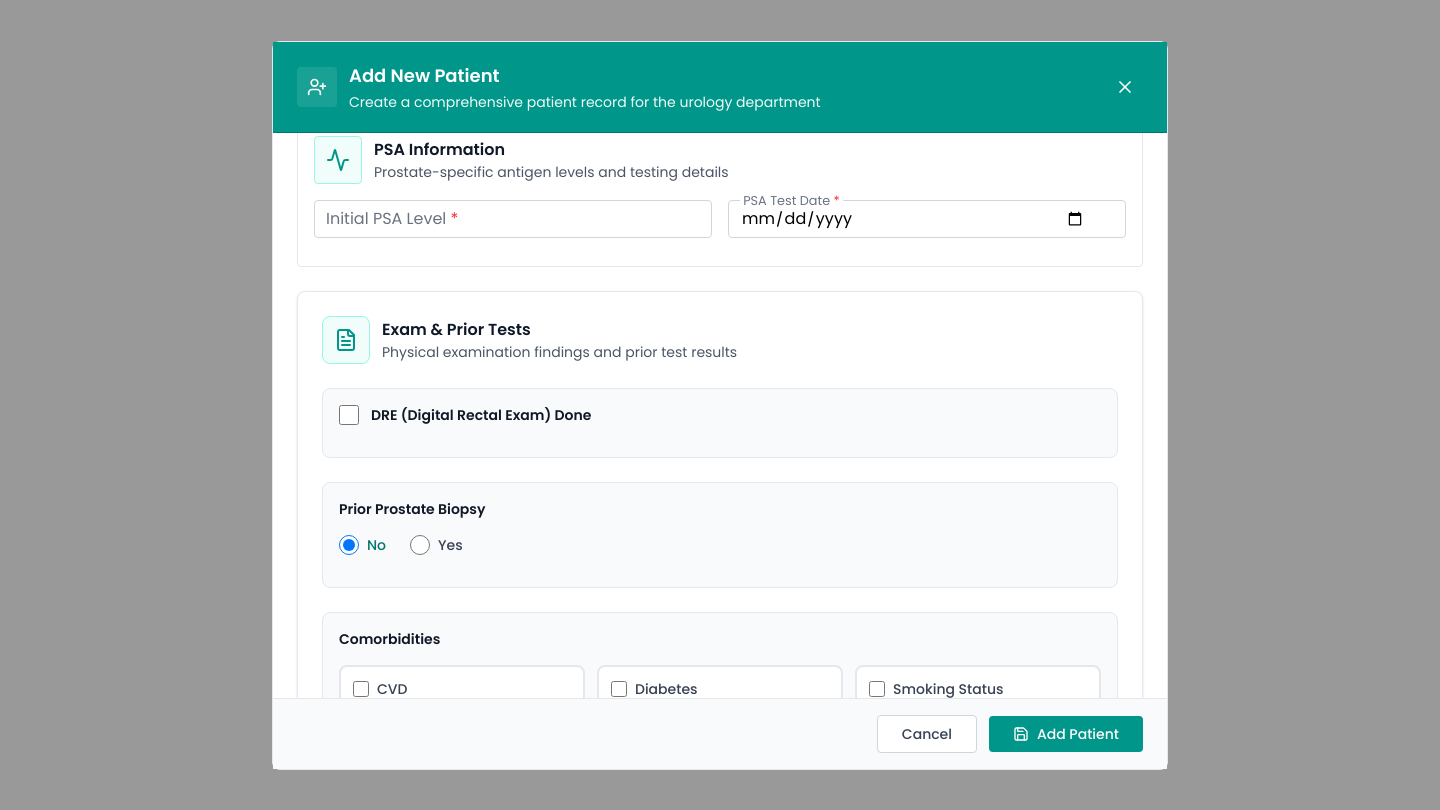
AddPatientModal › DRE Findings › should hide DRE findings when DRE is not done
(page scrolled)
Check: the text "dre findings" is not shown
Step 1. Click the checkbox labelled "DRE (Digital Rectal Exam) Done" → (349, 415), box [339,405,359,425]
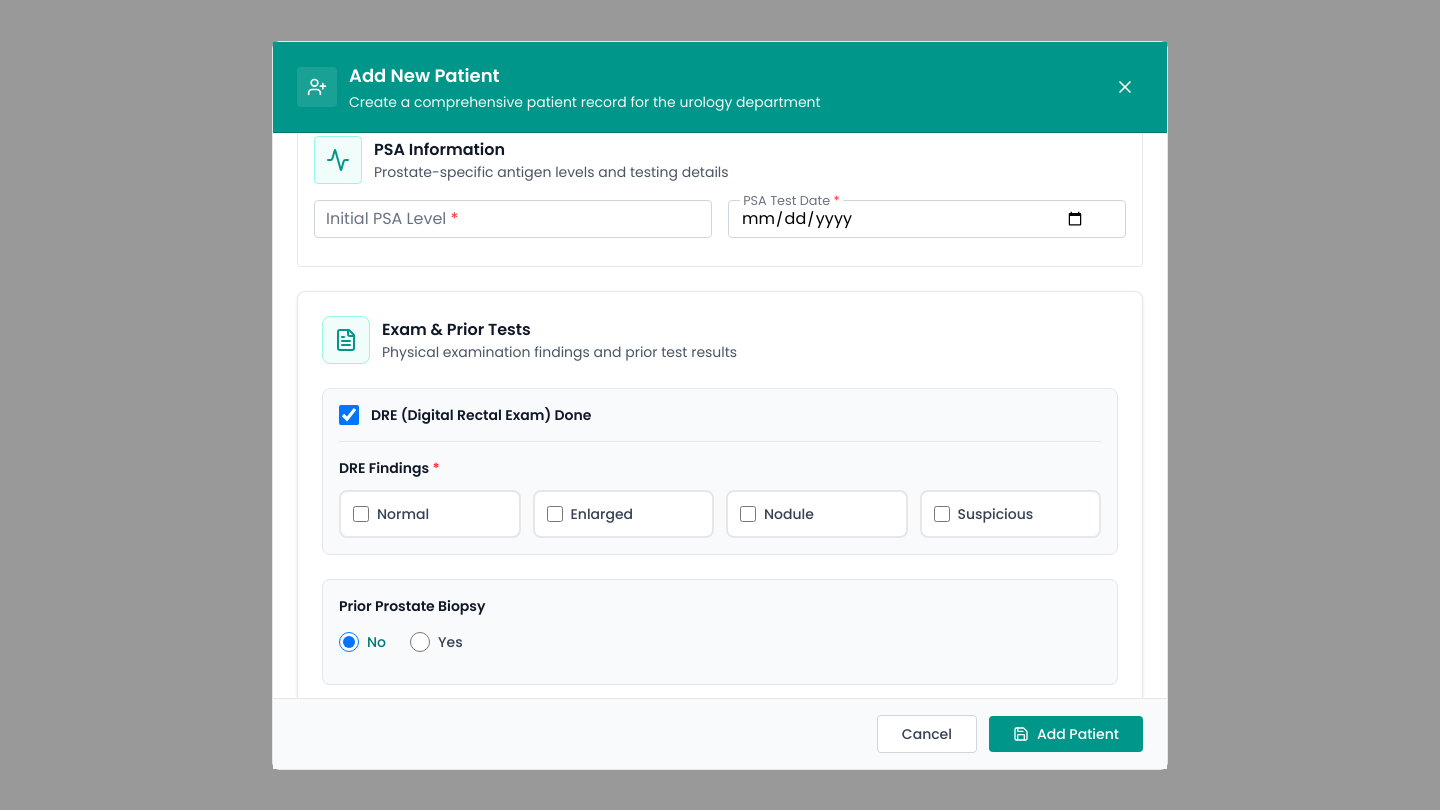
Check: the text "DRE Findings *" is shown, box [339,458,440,478]
Step 2. Click the checkbox labelled "DRE (Digital Rectal Exam) Done" → (349, 415), box [339,405,359,425]
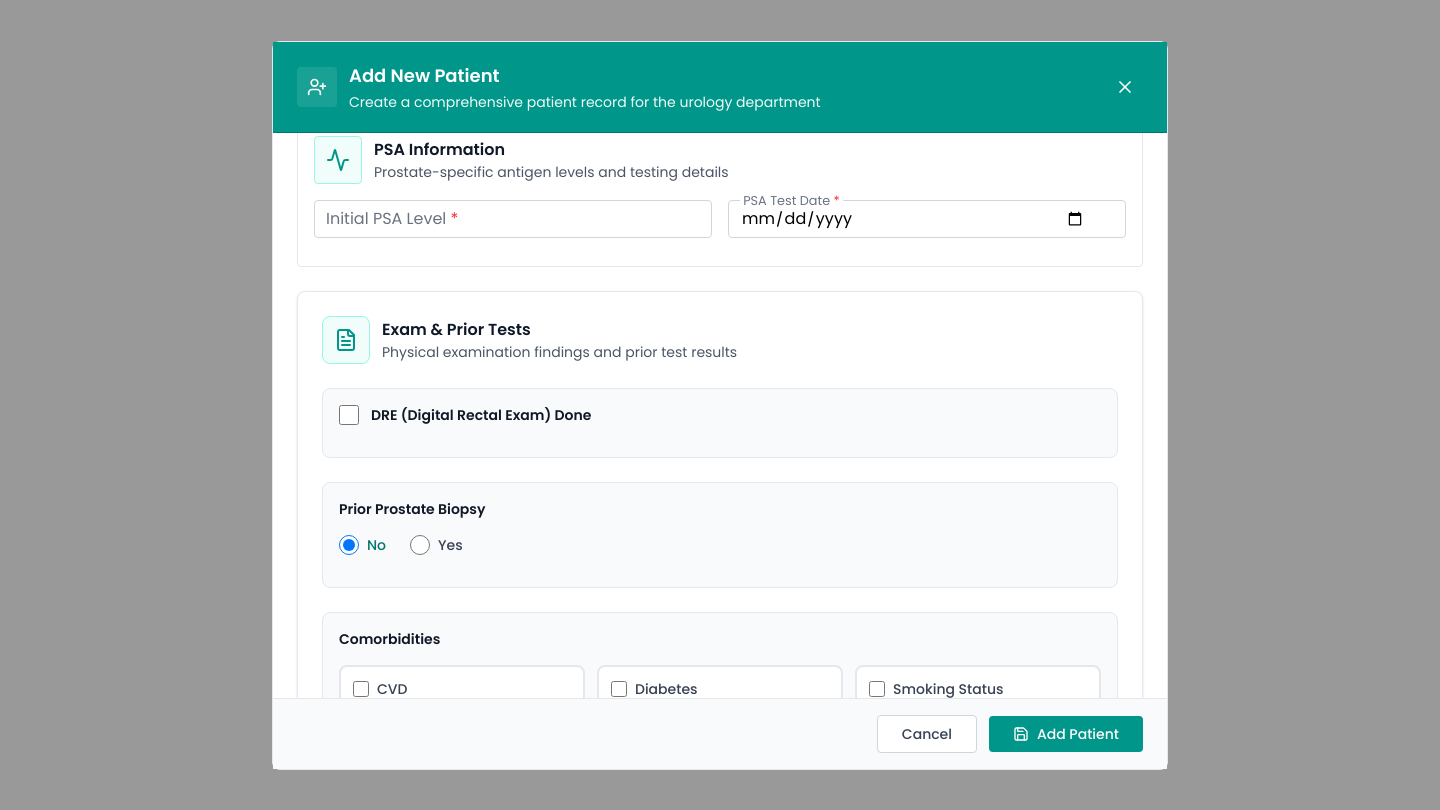
Check: the text "DRE Findings" is gone
